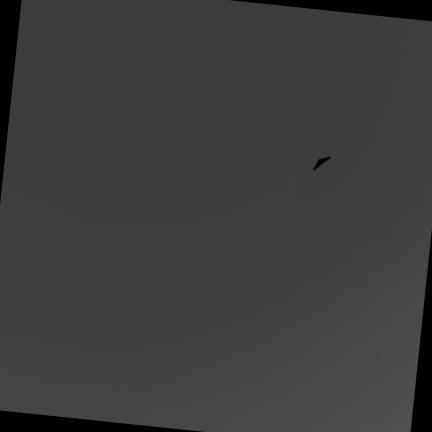Shahed: (314, 157, 330, 170)
